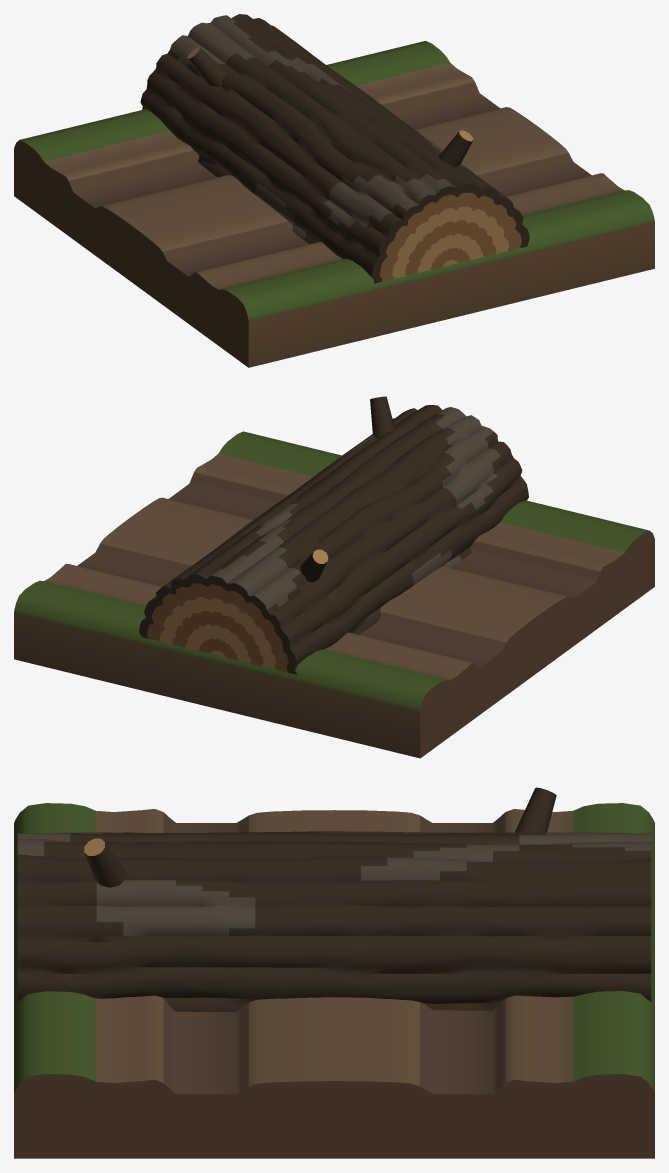
3 renders of one model, top to bottom at view 1: azimuth 30°, elevation 25°; view 2: azimuth 150°, elevation 25°; view 3: azimuth 270°, elevation 25°, orthographic. The views are drawn at different scales.
Visible parts, largest first — view 1: l2o; view 2: l2o; view 3: l2o.
Boxes of the visible parts, <box> form: l2o: <box>14,14,654,367</box>; l2o: <box>14,396,654,758</box>; l2o: <box>14,787,654,1158</box>.
Size of the model in its own units: 9 by 3.26 by 9.
